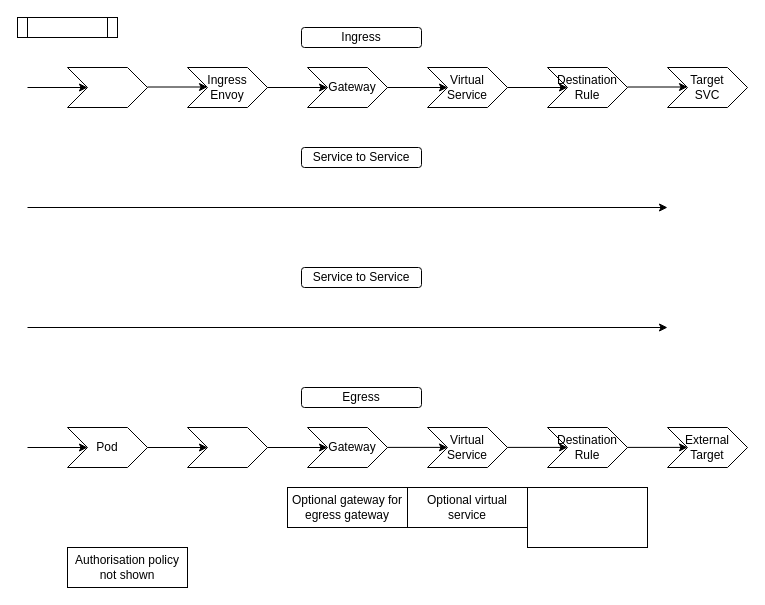
Image size: 765x605. Some labels were removed from this diagram. Here are the shapes that lost their labels. From the top down, the centre of each, then its label:
At (67,27): "External".
At (107,87): "SVC".
At (227,447): "Service Entry".
At (587,517): "Optional destination rule e.g. MTLS or TLS origination".
